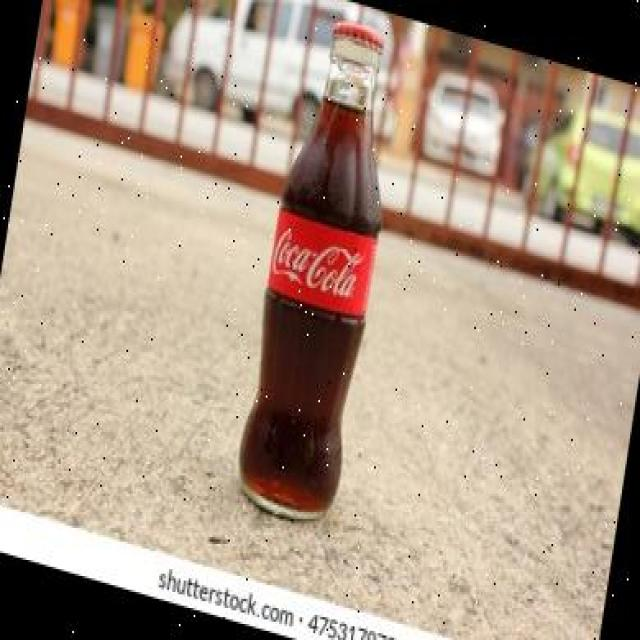coca-cola: (226, 2, 412, 537)
